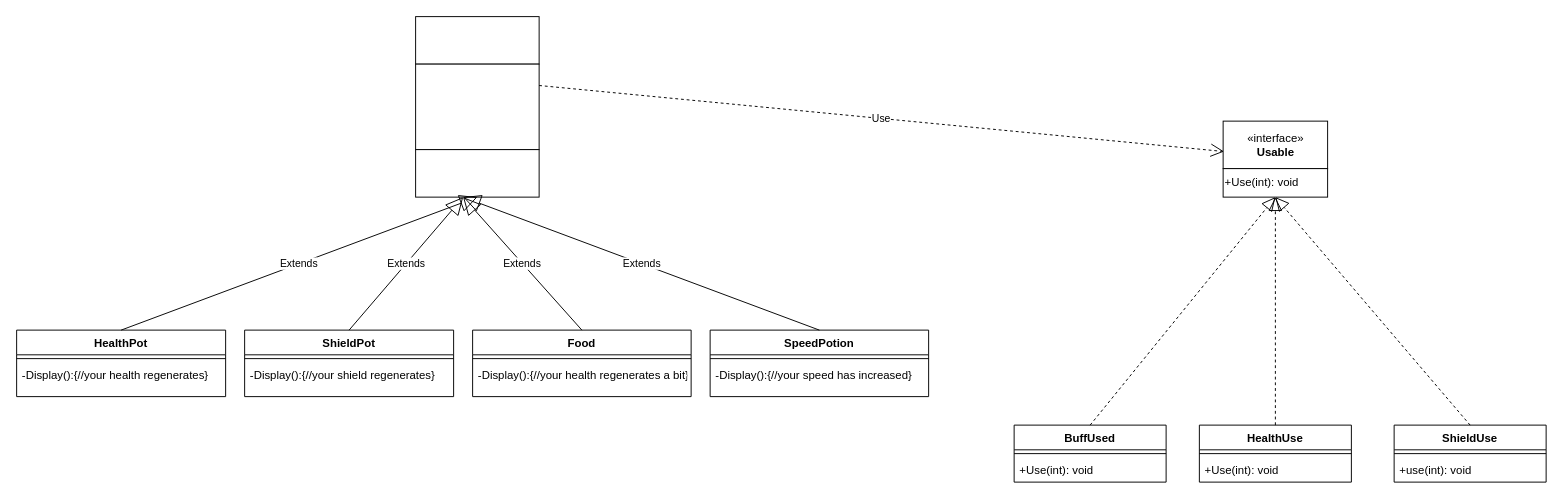
Some shapes in this 1563 by 502 pixel diagram are drawn without their labels. The shapes that lost their labels are listed below. From the top down, each one's centre as x and y in pixels, then its label:
At (477,40): "InventoryItem".
At (477,106): "-useType: Usable +stack: int -value: int +stackText: Text".
At (477,173): "-OnMouseDown(): void +IncreaseStack(): void -Display(): void".
